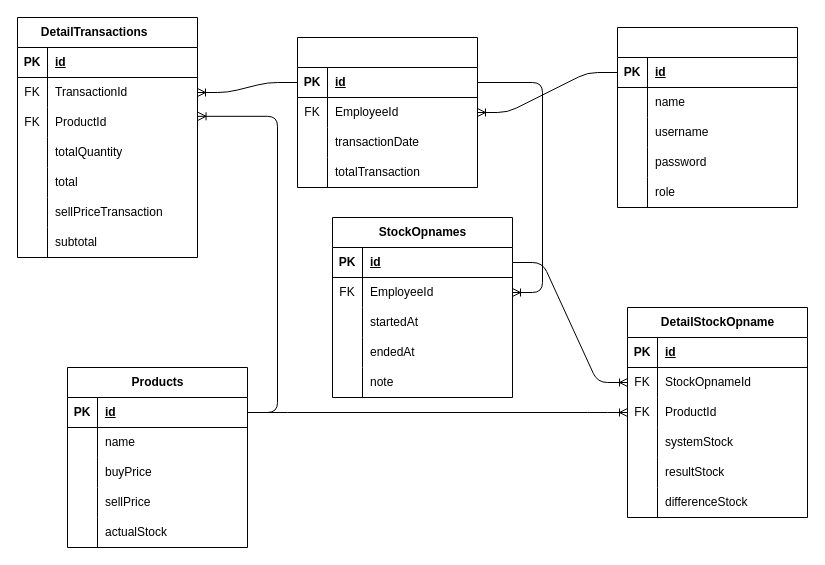
This 825x565 diagram has some shape labels left out. Here are the shapes that lost their labels. From the top down, the box of each, then its label:
(296, 36, 478, 188): Transactions
(616, 26, 798, 208): Employees
